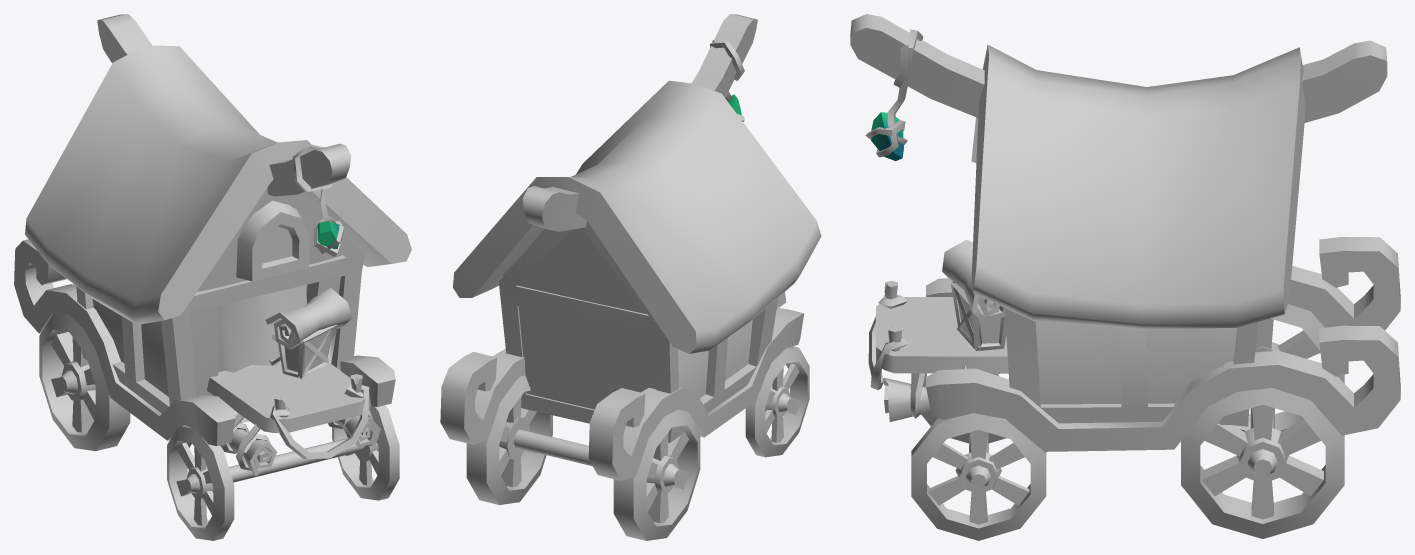
File: Map Unity  (11).fbx
3 renders of one model, left to right at view 1: azimuth 30°, elevation 25°; view 2: azimuth 150°, elevation 25°; view 3: azimuth 270°, elevation 25°, orthographic. The views are drawn at different scales.
Parts seen in each view (by area): view 1: Cube.210; view 2: Cube.210; view 3: Cube.210.
Boxes of the visible parts, box(x1,y1,x2,y2) form: Cube.210: box(14, 14, 411, 540); Cube.210: box(440, 14, 821, 540); Cube.210: box(850, 14, 1400, 540).
Size of the model in its own units: 0.8693 by 1.3 by 1.37.
